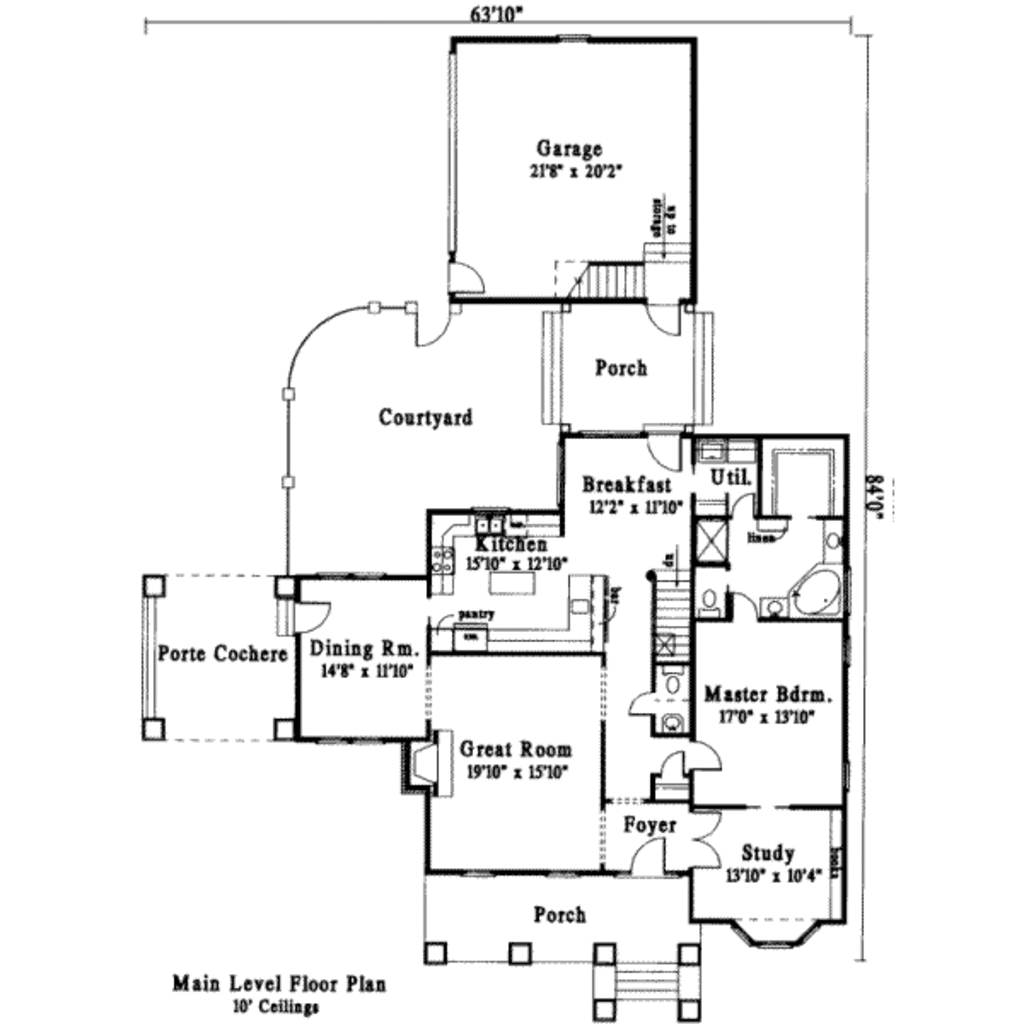door: (636, 410, 688, 479), (265, 597, 332, 636), (403, 300, 452, 347), (621, 833, 671, 879), (692, 812, 723, 870), (646, 297, 686, 337), (444, 260, 486, 294), (725, 492, 769, 524), (655, 748, 693, 782), (690, 738, 727, 772), (628, 686, 658, 722), (726, 590, 758, 621)
large_sink: (661, 664, 690, 696), (699, 586, 719, 618)
small_sink: (818, 518, 843, 565), (664, 711, 692, 744), (764, 598, 795, 621)
stairs: (542, 232, 693, 301), (610, 944, 696, 1021), (638, 547, 692, 664)
tub: (790, 554, 843, 621)
twin_sink: (468, 516, 515, 541)
window: (732, 921, 823, 953), (826, 633, 864, 686), (309, 563, 392, 583), (550, 30, 599, 55), (841, 758, 866, 807)
